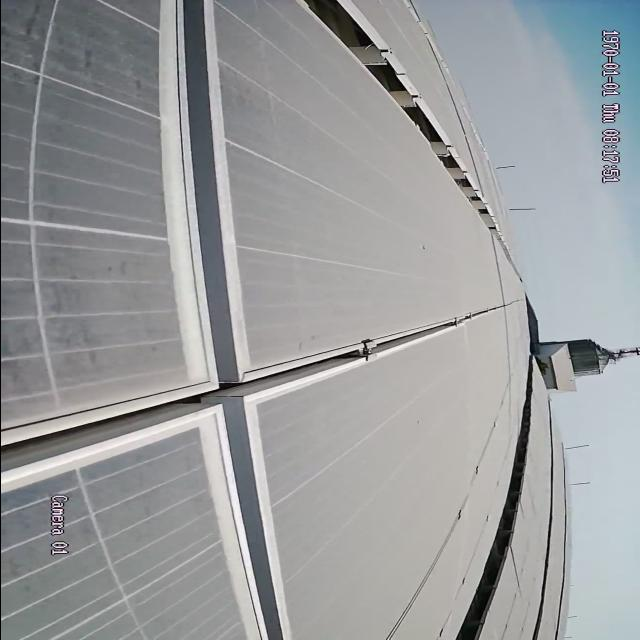interior panel: (9, 0, 504, 638)
outher panel: (301, 4, 502, 242), (450, 382, 535, 640)
